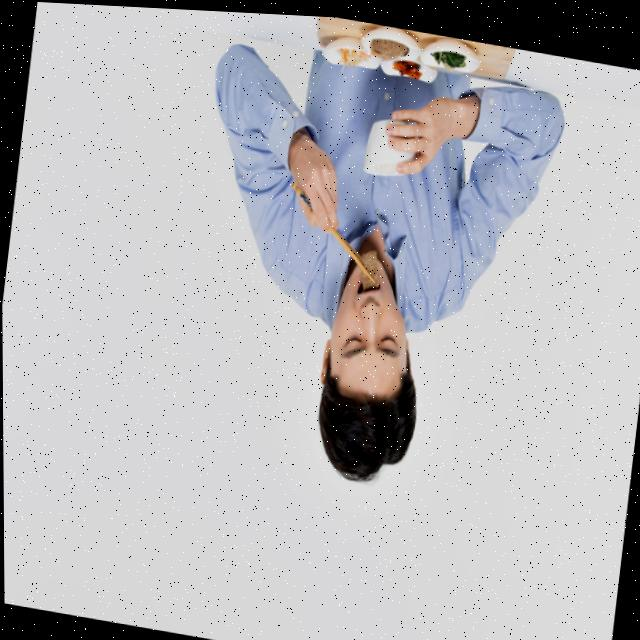eating-person: (172, 7, 584, 533)
